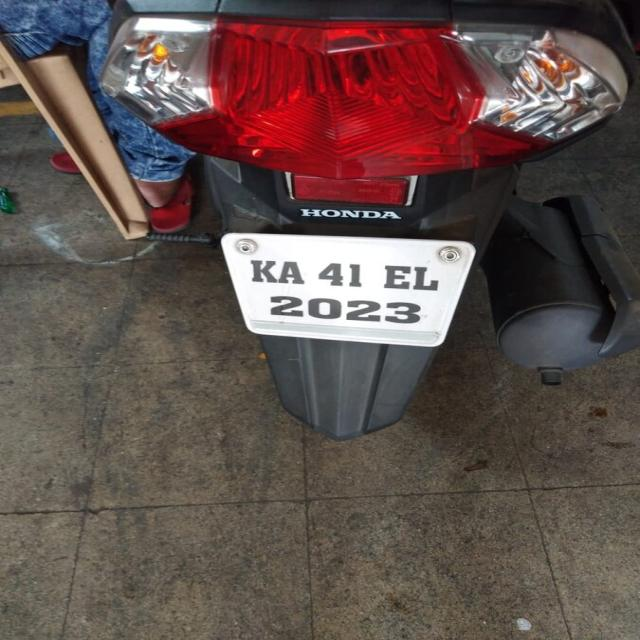number plate: (219, 230, 476, 347)
